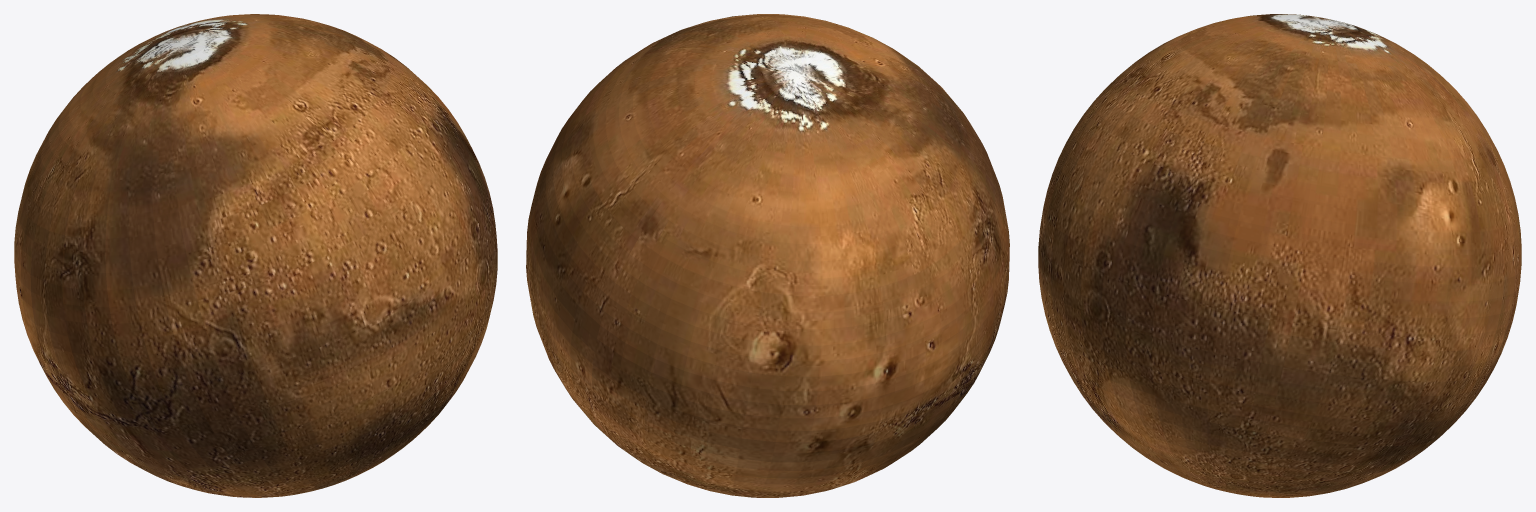
Rendered from mars.obj.
3 renders of one model, left to right at view 1: azimuth 30°, elevation 25°; view 2: azimuth 150°, elevation 25°; view 3: azimuth 270°, elevation 25°, orthographic.
Visible parts, largest first — view 1: Plane; view 2: Plane; view 3: Plane.
Part boxes in pixels (x1,y1,x2,y2): Plane: (14,14,497,497); Plane: (526,14,1009,497); Plane: (1038,14,1521,497).
Bounding box in the file's own units: 2.61 × 2.61 × 2.61.
Materials: 1 (1 with a texture image).
